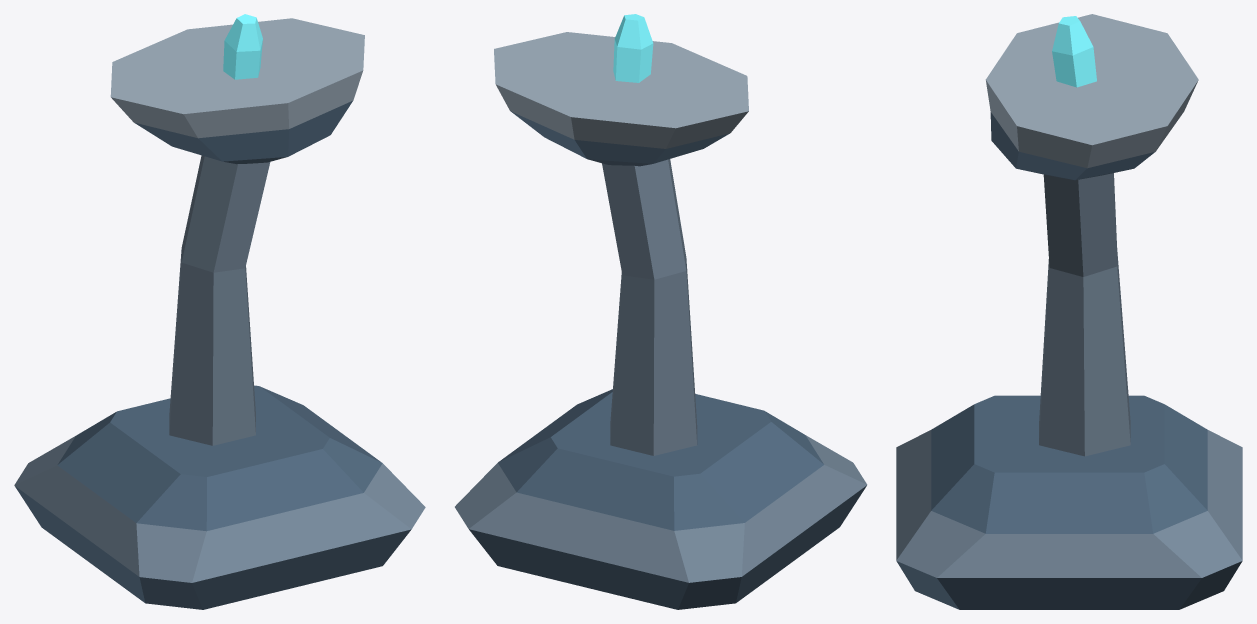
Rendered from survey-mast.glb.
3 renders of one model, left to right at view 1: azimuth 30°, elevation 25°; view 2: azimuth 150°, elevation 25°; view 3: azimuth 270°, elevation 25°, orthographic. The views are drawn at different scales.
Visible parts, largest first — view 1: survey-mast; view 2: survey-mast; view 3: survey-mast.
Part boxes in pixels (x1,y1,x2,y2): survey-mast: [14, 14, 425, 609]; survey-mast: [455, 14, 867, 609]; survey-mast: [896, 14, 1242, 609].
Bounding box in the file's own units: 0.449 × 0.7314 × 0.426.
